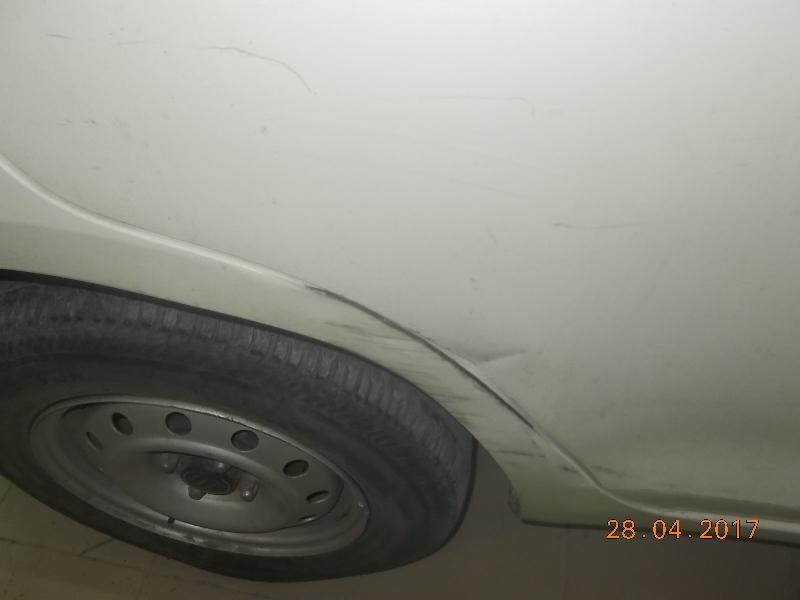Scratch_or_spot: (376, 307, 438, 352), (305, 278, 372, 314), (444, 351, 500, 382), (489, 391, 534, 427)
